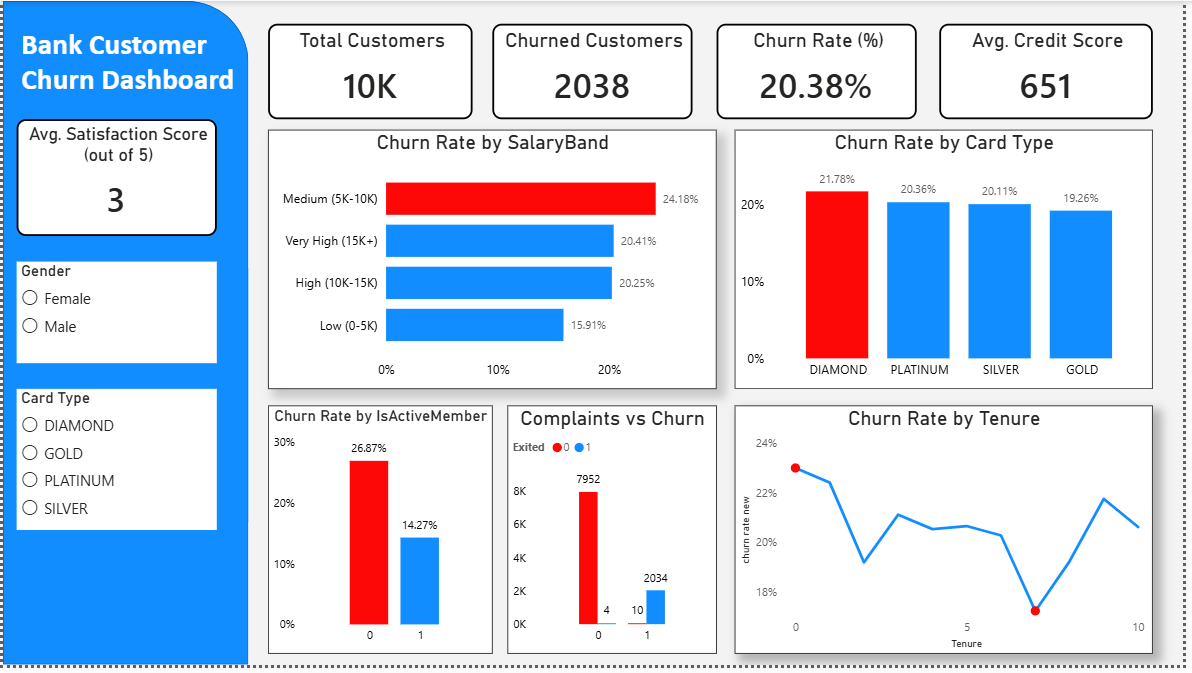

What the dashboard file says about the page in this screenshot:
{"tool":"powerbi","page":{"name":"Page 2","canvas":[1280,720],"ordinal":1},"visuals":[{"type":"cardVisual","title":"Total Customers","fields":{"Data":["CountNonNull(cleaned_bank_churn_records.Exited)"]},"box":[287.6,24.7,221.9,103.5],"z":0},{"type":"cardVisual","title":"Churned Customers","fields":{"Data":["cleaned_bank_churn_records.Churned Customers"]},"box":[530.9,24.7,216.9,103.5],"z":1000},{"type":"cardVisual","title":"Churn Rate (%)","fields":{"Data":["cleaned_bank_churn_records.Churn Rate"]},"box":[774.1,24.7,216.9,103.5],"z":2000},{"type":"cardVisual","title":"Avg. Credit Score","fields":{"Data":["cleaned_bank_churn_records.avg_credit_score"]},"box":[1015.7,24.7,231.7,103.5],"z":3000},{"type":"shape","box":[0,0,266.3,719.9],"z":4000},{"type":"textbox","box":[14.8,21.4,251.5,110.1],"z":5000},{"type":"cardVisual","title":"Avg. Satisfaction Score (out of 5)","fields":{"Data":["Avg(cleaned_bank_churn_records.Satisfaction Score)"]},"box":[14.8,128.2,216.9,126.6],"z":6000},{"type":"listSlicer","fields":{"Values":["cleaned_bank_churn_records.Gender"]},"box":[14.8,282.7,216.9,110.1],"z":7000},{"type":"clusteredBarChart","title":"Churn Rate by SalaryBand","fields":{"Category":["cleaned_bank_churn_records.SalaryBand"],"Y":["cleaned_bank_churn_records.churn rate new"]},"box":[287.6,139.7,486.5,281],"z":8000},{"type":"clusteredColumnChart","title":"Churn Rate by IsActiveMember","fields":{"Y":["cleaned_bank_churn_records.churn rate new"],"Category":["cleaned_bank_churn_records.IsActiveMember"]},"box":[287.6,438.8,243.2,269.5],"z":9000},{"type":"listSlicer","fields":{"Values":["cleaned_bank_churn_records.Card Type"]},"box":[14.8,420.7,216.9,152.8],"z":10000},{"type":"clusteredColumnChart","title":"Complaints vs Churn","fields":{"Category":["cleaned_bank_churn_records.Complain"],"Series":["cleaned_bank_churn_records.Exited"],"Y":["CountNonNull(cleaned_bank_churn_records.Geography)"]},"box":[547.3,438.8,226.8,269.5],"z":11000},{"type":"columnChart","title":"Churn Rate by Card Type","fields":{"Category":["cleaned_bank_churn_records.Card Type"],"Y":["cleaned_bank_churn_records.churn rate new"]},"box":[793.8,139.7,453.6,281],"z":11001},{"type":"lineChart","title":"Churn Rate by Tenure","fields":{"Category":["cleaned_bank_churn_records.Tenure"],"Y":["cleaned_bank_churn_records.churn rate new"]},"box":[793.8,438.8,453.6,269.5],"z":11002}]}

Visuals, with their boxes in screenshot pixels (x1, y1, x2, y2), scaled from the page's 1280x720 canvas onto the 1192x673 screenshot:
"Total Customers" cardVisual: <bbox>268, 23, 474, 120</bbox>
"Churned Customers" cardVisual: <bbox>494, 23, 696, 120</bbox>
"Churn Rate (%)" cardVisual: <bbox>721, 23, 923, 120</bbox>
"Avg. Credit Score" cardVisual: <bbox>946, 23, 1162, 120</bbox>
shape: <bbox>0, 0, 248, 672</bbox>
textbox: <bbox>14, 20, 248, 123</bbox>
"Avg. Satisfaction Score (out of 5)" cardVisual: <bbox>14, 120, 216, 238</bbox>
listSlicer - cleaned_bank_churn_records.Gender: <bbox>14, 264, 216, 367</bbox>
"Churn Rate by SalaryBand" clusteredBarChart: <bbox>268, 131, 721, 393</bbox>
"Churn Rate by IsActiveMember" clusteredColumnChart: <bbox>268, 410, 494, 662</bbox>
listSlicer - cleaned_bank_churn_records.Card Type: <bbox>14, 393, 216, 536</bbox>
"Complaints vs Churn" clusteredColumnChart: <bbox>510, 410, 721, 662</bbox>
"Churn Rate by Card Type" columnChart: <bbox>739, 131, 1162, 393</bbox>
"Churn Rate by Tenure" lineChart: <bbox>739, 410, 1162, 662</bbox>
